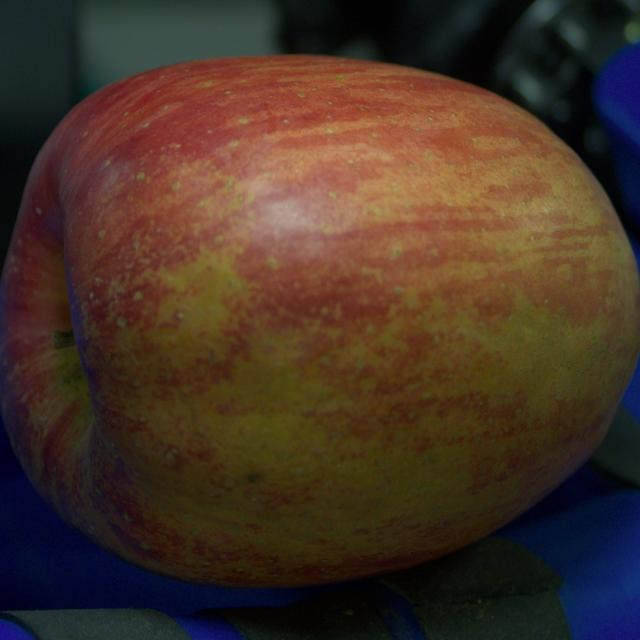apple: (0, 56, 639, 587)
